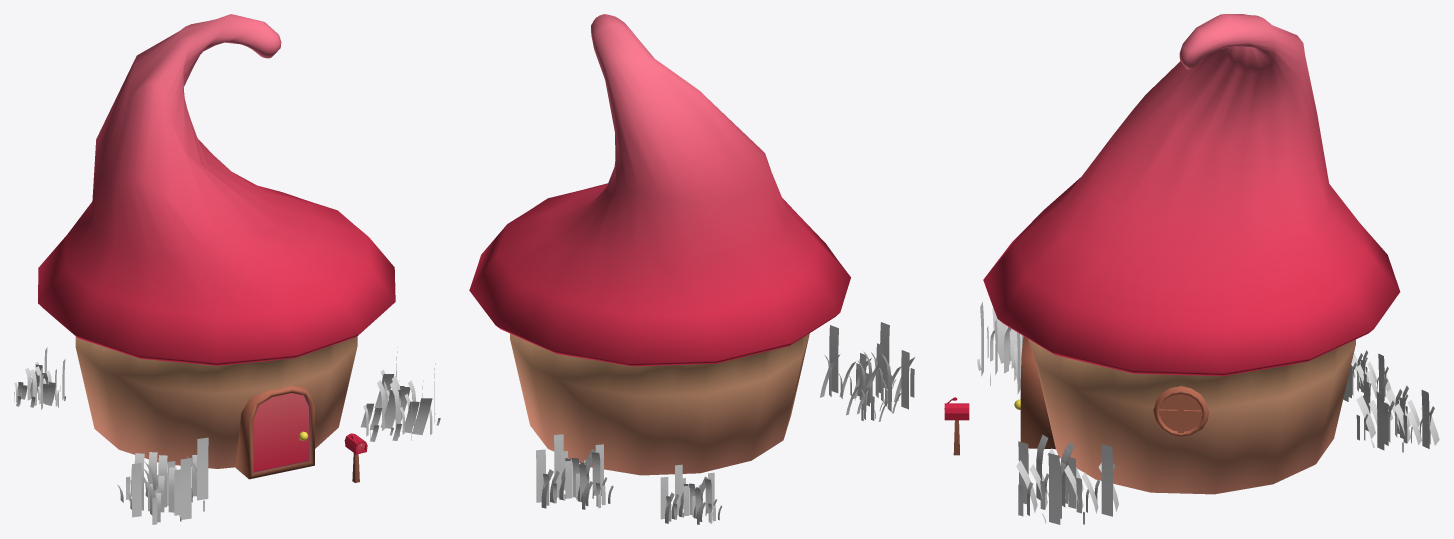
The model's file is house_red.fbx.
The picture shows the model from 3 angles, left to right: view 1: azimuth 30°, elevation 25°; view 2: azimuth 150°, elevation 25°; view 3: azimuth 270°, elevation 25°; orthographic projection. The views are drawn at different scales.
Parts seen in each view (by area): view 1: Sphere.002; view 2: Sphere.002; view 3: Sphere.002.
Boxes of the visible parts, x1,y1,x2,y2 form: Sphere.002: (14,14,440,524); Sphere.002: (469,14,915,524); Sphere.002: (944,14,1439,524).
Size of the model in its own units: 1655 by 1939 by 1934.
